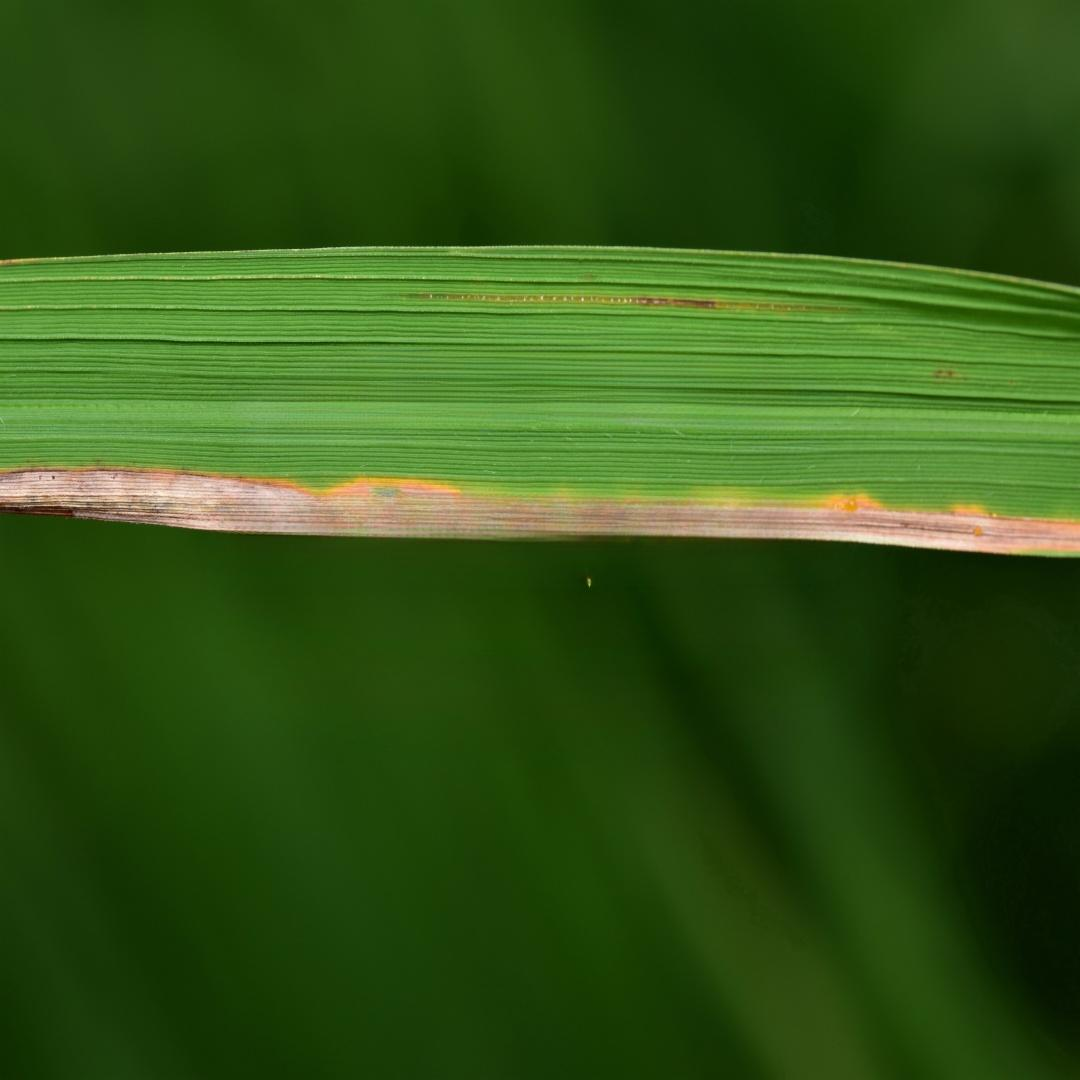BLB: (1, 465, 1079, 552)
LEAF: (0, 247, 1079, 557)
